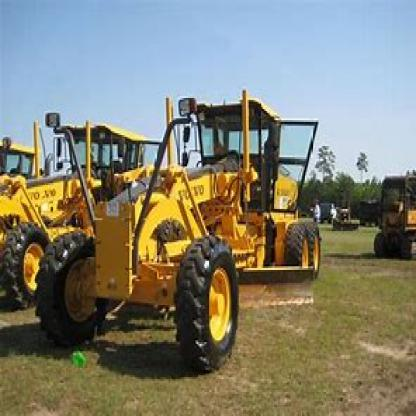bull_dozer/loader/grader: (42, 81, 328, 362)
